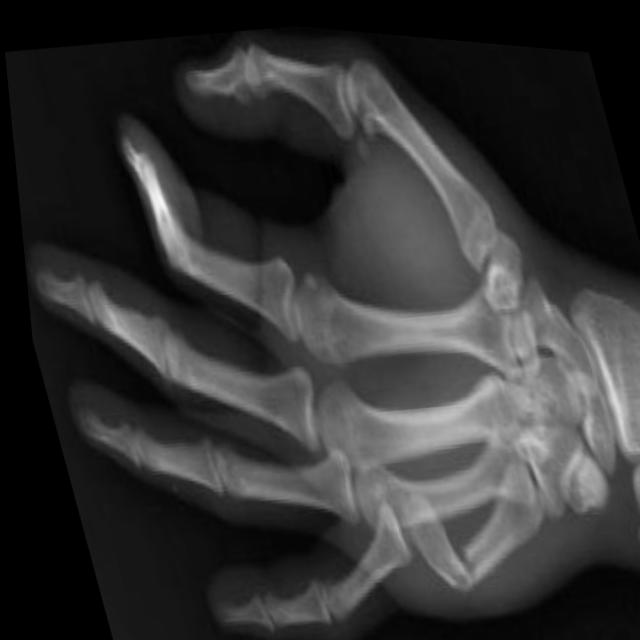fracture: (421, 519, 490, 605)
